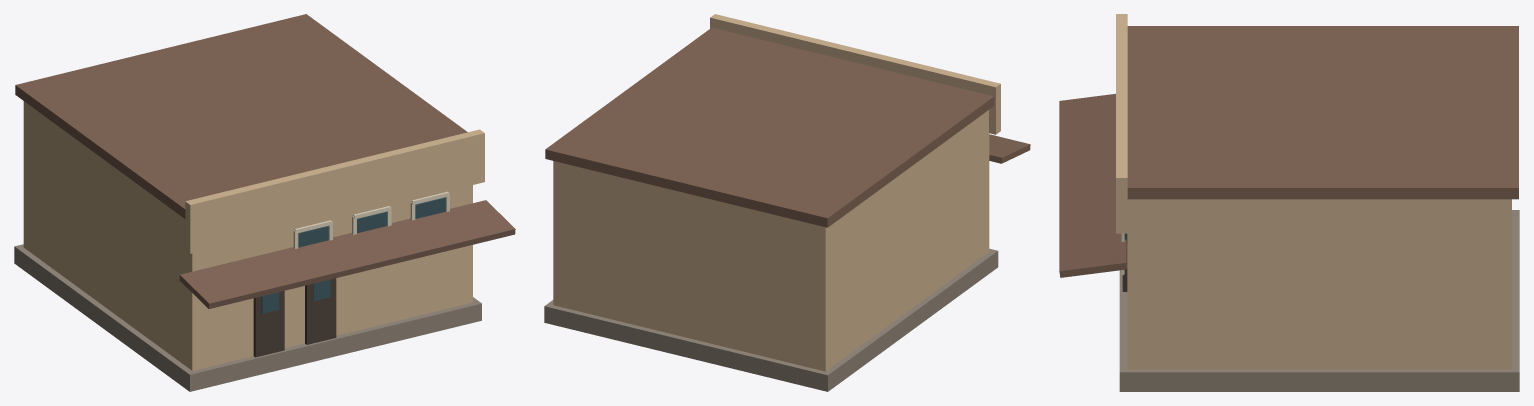
Rendered from arizona-shop-awning_lod0.glb.
3 renders of one model, left to right at view 1: azimuth 30°, elevation 25°; view 2: azimuth 150°, elevation 25°; view 3: azimuth 270°, elevation 25°, orthographic. The views are drawn at different scales.
Visible parts, largest first — view 1: RF_AZ_Awning_Roof, RF_AZ_Awning_Walls, RF_AZ_Awning_Parapet, RF_AZ_Awning_Canopy, RF_AZ_Awning_Foundation, RF_AZ_Awning_Door.001, RF_AZ_Awning_Door, RF_AZ_Awning_Window, RF_AZ_Awning_Window.002, RF_AZ_Awning_Window.001; view 2: RF_AZ_Awning_Walls, RF_AZ_Awning_Roof, RF_AZ_Awning_Foundation, RF_AZ_Awning_Parapet, RF_AZ_Awning_Canopy; view 3: RF_AZ_Awning_Roof, RF_AZ_Awning_Walls, RF_AZ_Awning_Foundation, RF_AZ_Awning_Canopy, RF_AZ_Awning_Parapet.
Boxes of the visible parts, x1=… form: RF_AZ_Awning_Roof: x1=15, y1=14, x2=467, y2=218; RF_AZ_Awning_Walls: x1=23, y1=101, x2=472, y2=370; RF_AZ_Awning_Parapet: x1=185, y1=129, x2=484, y2=253; RF_AZ_Awning_Canopy: x1=179, y1=200, x2=515, y2=308; RF_AZ_Awning_Foundation: x1=14, y1=244, x2=481, y2=391; RF_AZ_Awning_Door.001: x1=305, y1=278, x2=336, y2=344; RF_AZ_Awning_Door: x1=253, y1=291, x2=284, y2=357; RF_AZ_Awning_Window: x1=298, y1=226, x2=328, y2=247; RF_AZ_Awning_Window.002: x1=415, y1=197, x2=445, y2=218; RF_AZ_Awning_Window.001: x1=357, y1=211, x2=386, y2=233; RF_AZ_Awning_Walls: x1=553, y1=110, x2=989, y2=371; RF_AZ_Awning_Roof: x1=545, y1=27, x2=994, y2=227; RF_AZ_Awning_Foundation: x1=544, y1=248, x2=998, y2=391; RF_AZ_Awning_Parapet: x1=710, y1=14, x2=1000, y2=134; RF_AZ_Awning_Canopy: x1=989, y1=134, x2=1030, y2=163; RF_AZ_Awning_Roof: x1=1127, y1=26, x2=1518, y2=199; RF_AZ_Awning_Walls: x1=1127, y1=199, x2=1511, y2=369; RF_AZ_Awning_Foundation: x1=1119, y1=210, x2=1519, y2=391; RF_AZ_Awning_Canopy: x1=1059, y1=93, x2=1127, y2=277; RF_AZ_Awning_Parapet: x1=1116, y1=14, x2=1127, y2=233.
Bounding box in the file's own units: 13.1 × 7.7 × 14.96.
